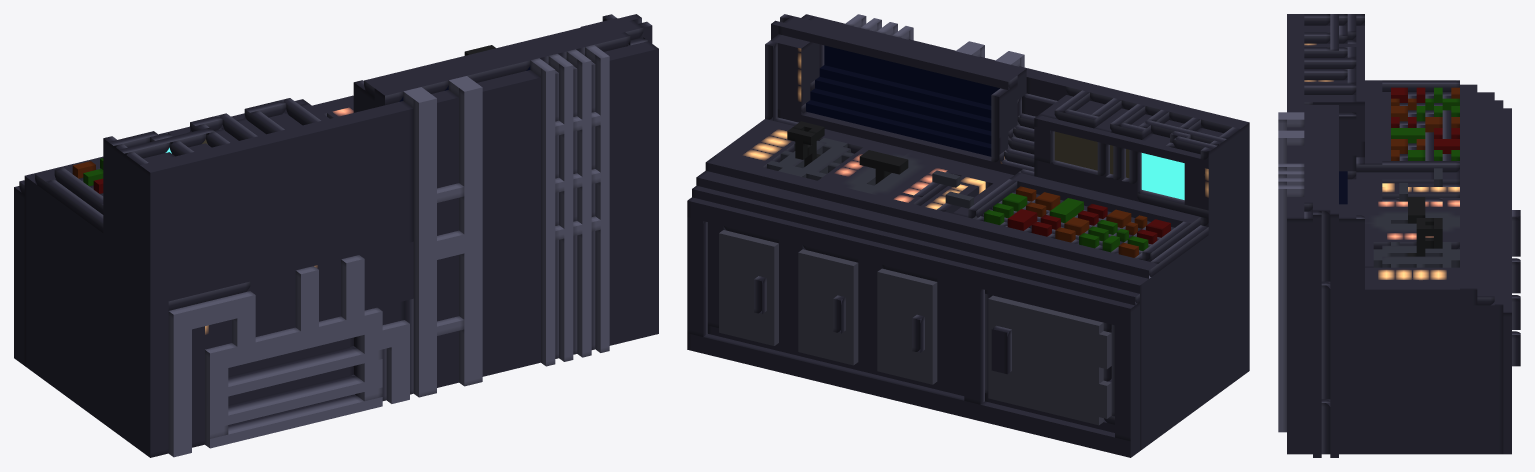
File: maszyna_kontrola.dae
3 renders of one model, left to right at view 1: azimuth 30°, elevation 25°; view 2: azimuth 150°, elevation 25°; view 3: azimuth 270°, elevation 25°, orthographic. The views are drawn at different scales.
Parts seen in each view (by area): view 1: Content; view 2: Content; view 3: Content.
Boxes of the visible parts, left/top/right/bottom form: Content: left=14, top=14, right=658, bottom=457; Content: left=687, top=14, right=1249, bottom=457; Content: left=1278, top=14, right=1520, bottom=457.
Bounding box in the file's own units: 57 × 31 × 28.
1 material, 1 textured.
